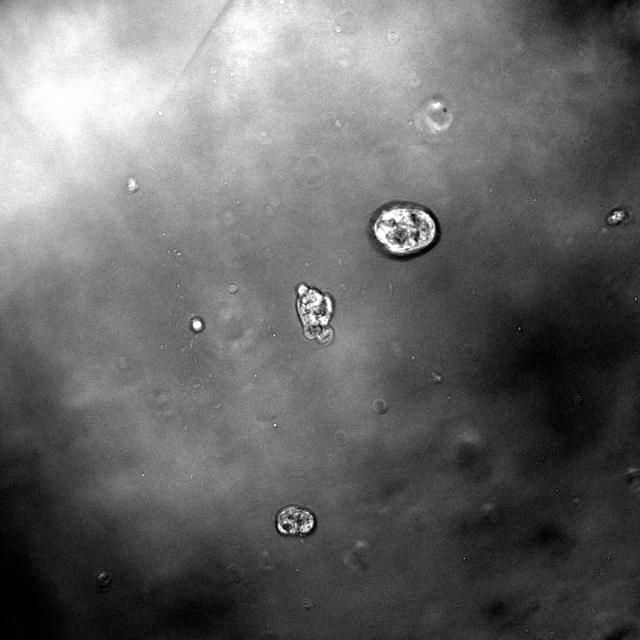organoid: (370, 200, 439, 258), (296, 283, 333, 344), (276, 505, 316, 535), (606, 205, 632, 227), (189, 315, 205, 333)
